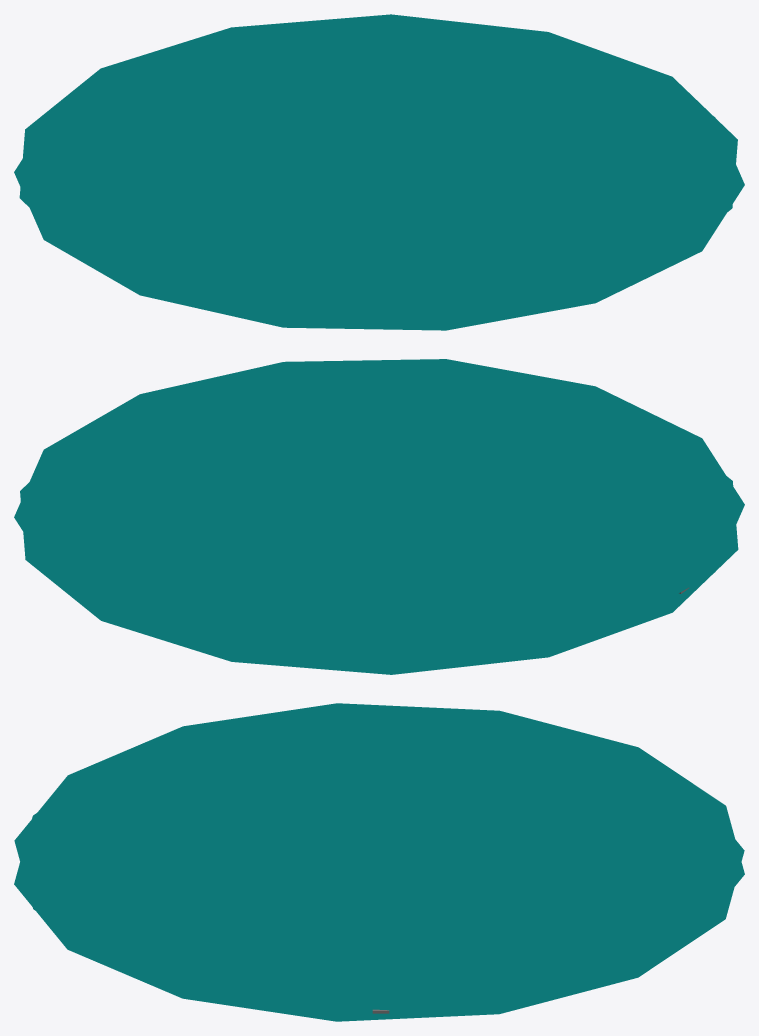
The model's file is JETRROTR.glb.
3 renders of one model, top to bottom at view 1: azimuth 30°, elevation 25°; view 2: azimuth 150°, elevation 25°; view 3: azimuth 270°, elevation 25°, orthographic.
Parts seen in each view (by area): view 1: JETRROTR | archived geometry; view 2: JETRROTR | archived geometry; view 3: JETRROTR | archived geometry.
Part boxes in pixels (left/top/right/bottom): JETRROTR | archived geometry: left=14, top=14, right=744, bottom=330; JETRROTR | archived geometry: left=14, top=359, right=744, bottom=674; JETRROTR | archived geometry: left=14, top=703, right=744, bottom=1021.
Bounding box in the file's own units: 12.34 × 1.05 × 12.35.
